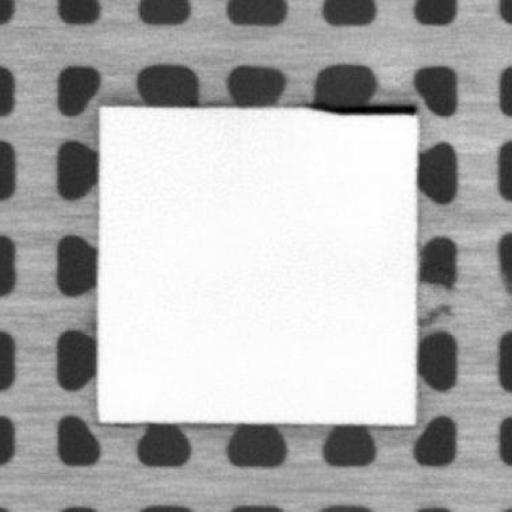DIE_BROKEN: (305, 98, 416, 118)
